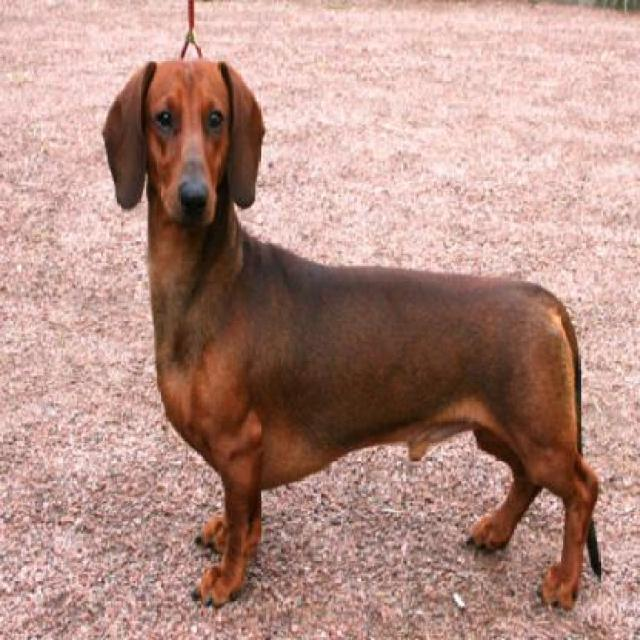Dog: (98, 54, 608, 617)
